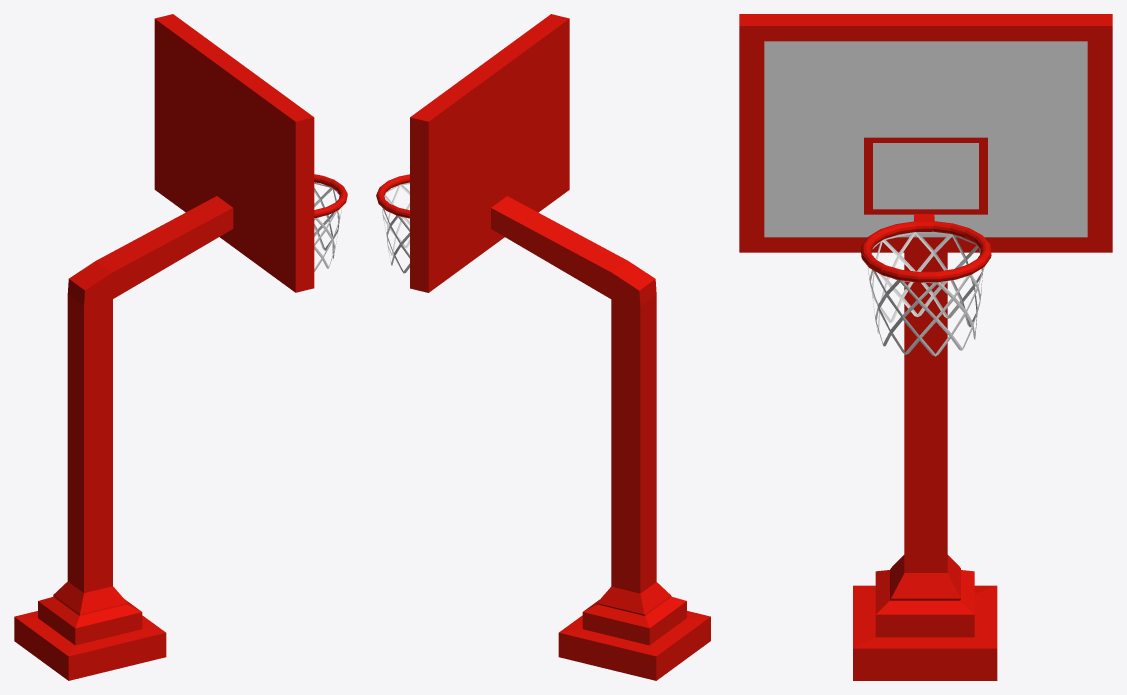
Rendered from hoop.fbx.
3 renders of one model, left to right at view 1: azimuth 30°, elevation 25°; view 2: azimuth 150°, elevation 25°; view 3: azimuth 270°, elevation 25°, orthographic. The views are drawn at different scales.
Parts seen in each view (by area): view 1: Cube; view 2: Cube; view 3: Cube.
Part boxes in pixels (x1,y1,x2,y2): Cube: [14, 14, 347, 680]; Cube: [376, 14, 710, 680]; Cube: [739, 14, 1112, 680].
Size of the model in its own units: 421 by 731 by 343.
